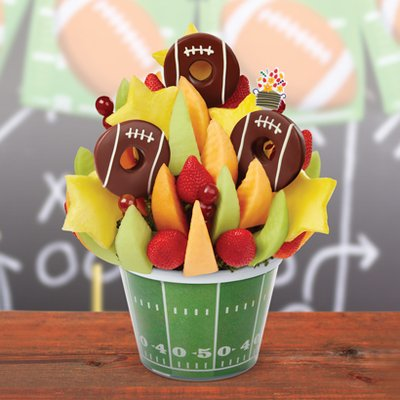curry: (9, 308, 399, 400)
